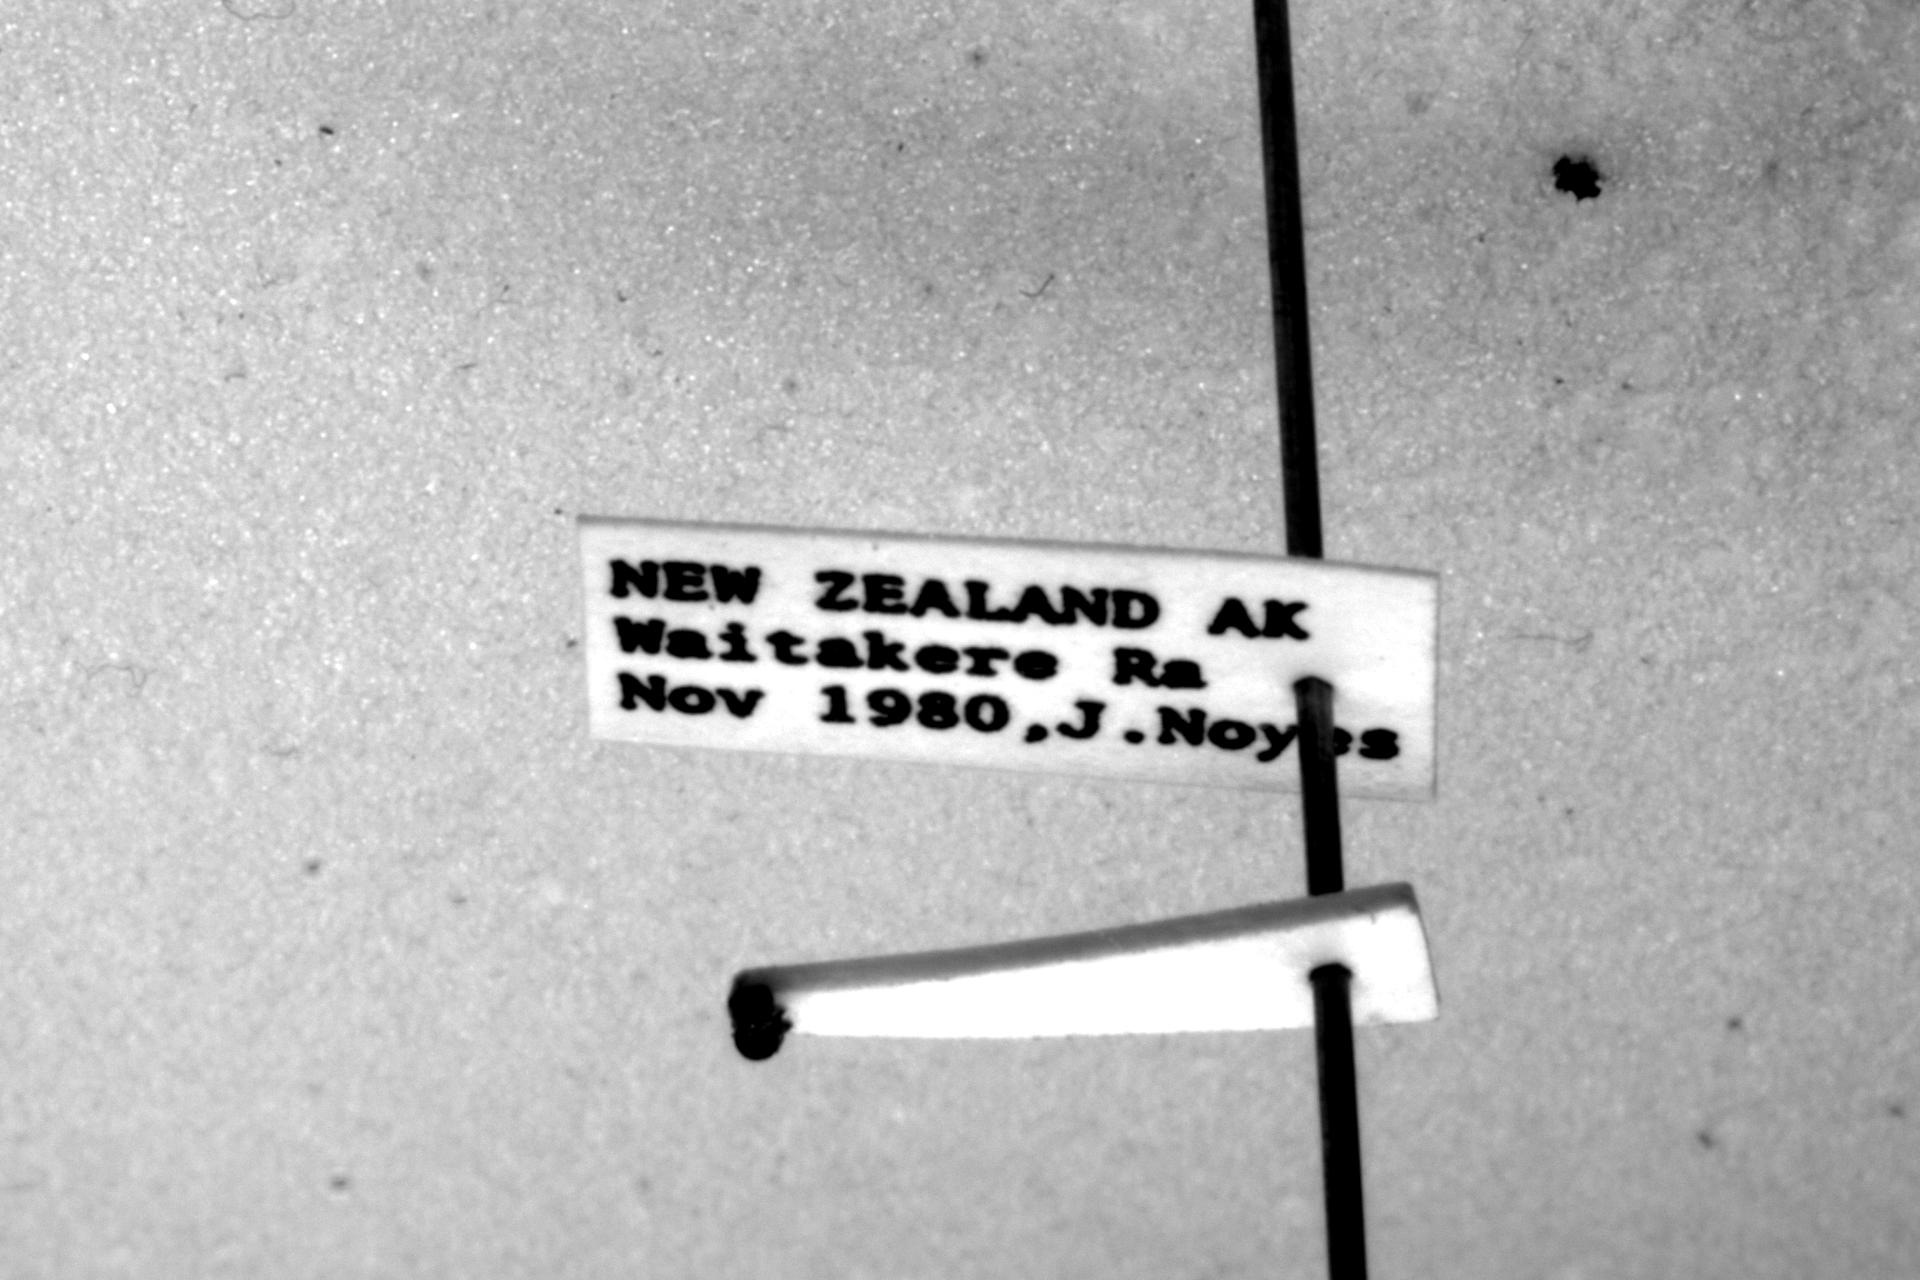typed_label: (577, 517, 1436, 799)
